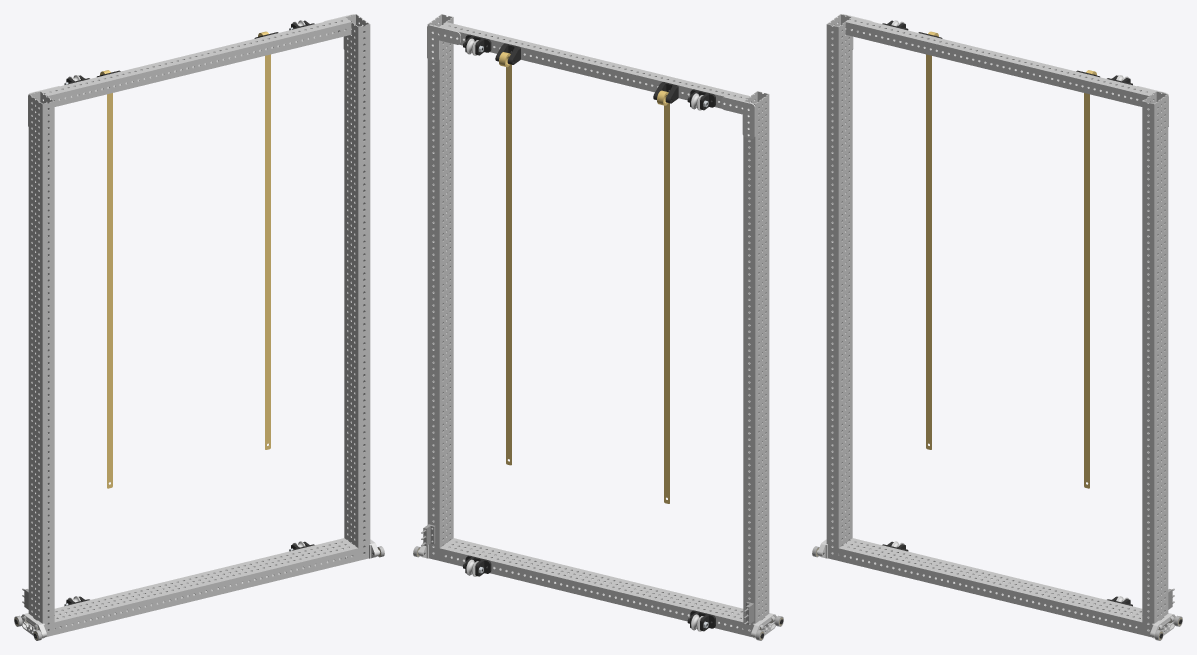
3 renders of one model, left to right at view 1: azimuth 30°, elevation 25°; view 2: azimuth 150°, elevation 25°; view 3: azimuth 330°, elevation 25°, orthographic.
Visible parts, largest first — view 1: 2" x 1" x 0.0625" Aluminum Box Tube (42" L, Full Pattern, 0. (×2), 2" x 1" x 0.0625" Aluminum Box Tube (25" L, Full Pattern, 0., 1" x 1" x 0.0625" Aluminum Box Tube (25" L, Full Pattern, 0., Constant Force Spring (4 lbs, 40" Travel, 1/2" Width) (×2); view 2: 2" x 1" x 0.0625" Aluminum Box Tube (42" L, Full Pattern, 0. (×2), 2" x 1" x 0.0625" Aluminum Box Tube (25" L, Full Pattern, 0., Constant Force Spring (4 lbs, 40" Travel, 1/2" Width) (×2), 1" x 1" x 0.0625" Aluminum Box Tube (25" L, Full Pattern, 0., 90 Degree Gusset, Sharp Corner (#10, 0.098" Thick) (×2); view 3: 2" x 1" x 0.0625" Aluminum Box Tube (42" L, Full Pattern, 0. (×2), 2" x 1" x 0.0625" Aluminum Box Tube (25" L, Full Pattern, 0., 1" x 1" x 0.0625" Aluminum Box Tube (25" L, Full Pattern, 0., Constant Force Spring (4 lbs, 40" Travel, 1/2" Width) (×2).
Part boxes in pixels (box(x1,y1,x2,y2)): 2" x 1" x 0.0625" Aluminum Box Tube (42" L, Full Pattern, 0. (×2): box(28, 14, 370, 636); 2" x 1" x 0.0625" Aluminum Box Tube (25" L, Full Pattern, 0.: box(47, 538, 358, 634); 1" x 1" x 0.0625" Aluminum Box Tube (25" L, Full Pattern, 0.: box(41, 17, 351, 106); Constant Force Spring (4 lbs, 40" Travel, 1/2" Width) (×2): box(100, 31, 270, 488); 2" x 1" x 0.0625" Aluminum Box Tube (42" L, Full Pattern, 0. (×2): box(427, 14, 769, 636); 2" x 1" x 0.0625" Aluminum Box Tube (25" L, Full Pattern, 0.: box(439, 538, 743, 634); Constant Force Spring (4 lbs, 40" Travel, 1/2" Width) (×2): box(499, 52, 669, 503); 1" x 1" x 0.0625" Aluminum Box Tube (25" L, Full Pattern, 0.: box(439, 22, 750, 108); 90 Degree Gusset, Sharp Corner (#10, 0.098" Thick) (×2): box(427, 25, 755, 138); 2" x 1" x 0.0625" Aluminum Box Tube (42" L, Full Pattern, 0. (×2): box(826, 14, 1168, 636); 2" x 1" x 0.0625" Aluminum Box Tube (25" L, Full Pattern, 0.: box(838, 538, 1149, 634); 1" x 1" x 0.0625" Aluminum Box Tube (25" L, Full Pattern, 0.: box(845, 17, 1155, 106); Constant Force Spring (4 lbs, 40" Travel, 1/2" Width) (×2): box(926, 31, 1096, 488).
Size of the model in its own units: 0.7274 by 1.07 by 0.108.
